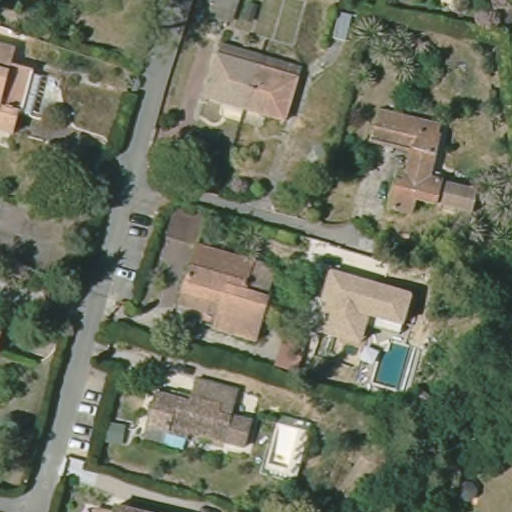pool: (369, 339, 412, 391)
